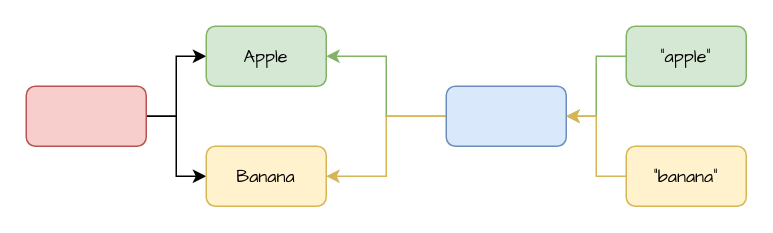
The diagram is 773 pixels wide and 233 high, and some of its shapes have lost their labels. Each missing label, with the centre of its shape:
"FruitFactory" goes at pixel 505 115.
"IFruit" goes at pixel 85 115.
